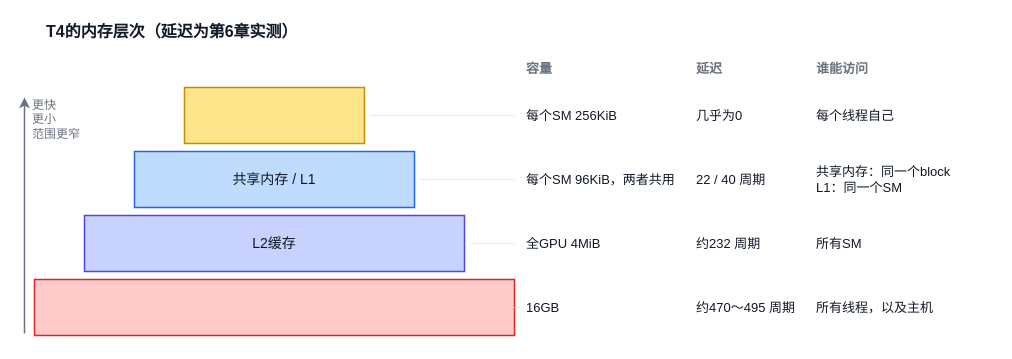
This 1012x359 diagram has some shape labels left out. The shapes that lost their labels are listed below. From the top down, each one's centre as x and y in pixels, then its label:
the point at 274,115: 寄存器
the point at 274,307: 显存（global memory）
